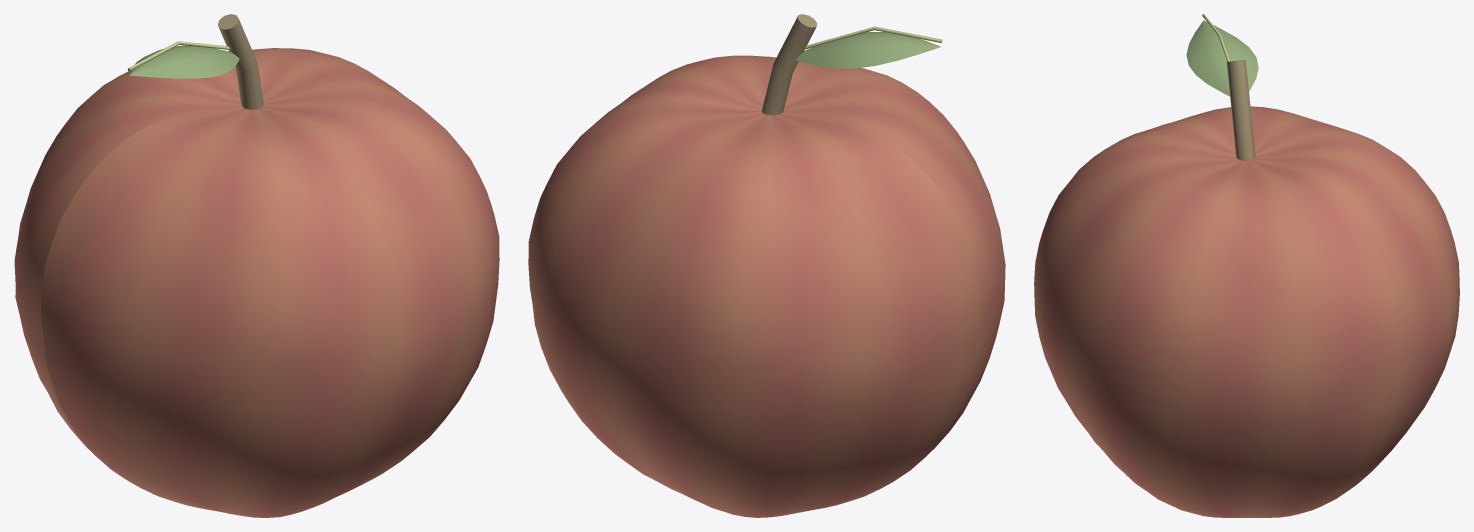
The model's file is apple.glb.
The picture shows the model from 3 angles, left to right: view 1: azimuth 30°, elevation 25°; view 2: azimuth 150°, elevation 25°; view 3: azimuth 270°, elevation 25°; orthographic projection. The views are drawn at different scales.
Parts seen in each view (by area): view 1: library-apple-dimpled-apple, library-apple-leaf, library-apple-stem; view 2: library-apple-dimpled-apple, library-apple-leaf, library-apple-stem, library-apple-leaf-vein; view 3: library-apple-dimpled-apple, library-apple-leaf, library-apple-stem.
Part boxes in pixels (x1,y1,x2,y2): library-apple-dimpled-apple: (14, 48, 499, 517); library-apple-leaf: (129, 45, 239, 78); library-apple-stem: (218, 14, 263, 109); library-apple-dimpled-apple: (528, 55, 1005, 517); library-apple-leaf: (795, 32, 941, 68); library-apple-stem: (762, 14, 817, 115); library-apple-leaf-vein: (804, 26, 942, 49); library-apple-dimpled-apple: (1034, 106, 1459, 517); library-apple-leaf: (1186, 20, 1258, 96); library-apple-stem: (1226, 60, 1255, 160).
Size of the model in its own units: 0.0785 by 0.0877 by 0.0784.
